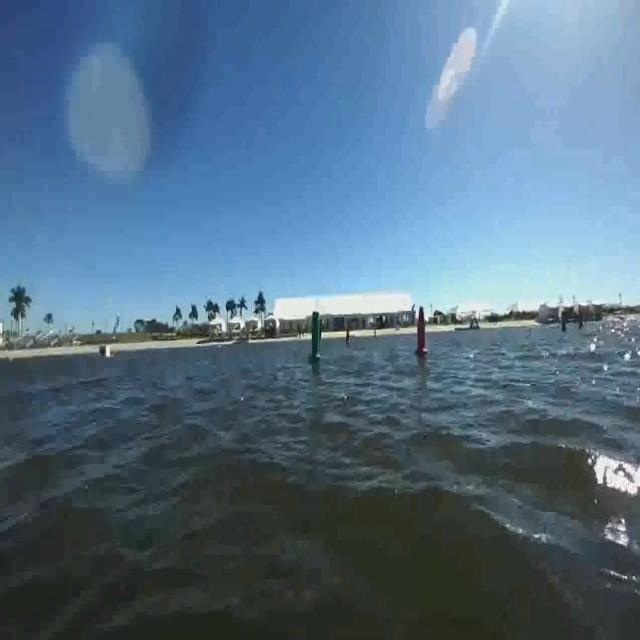green-column-buoy: (307, 311, 323, 366)
red-column-buoy: (414, 304, 430, 356)
